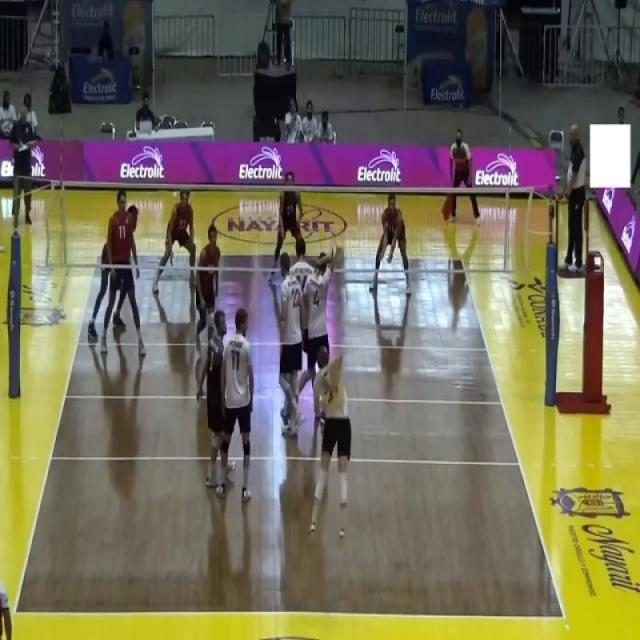volleyball: (334, 242, 345, 266)
